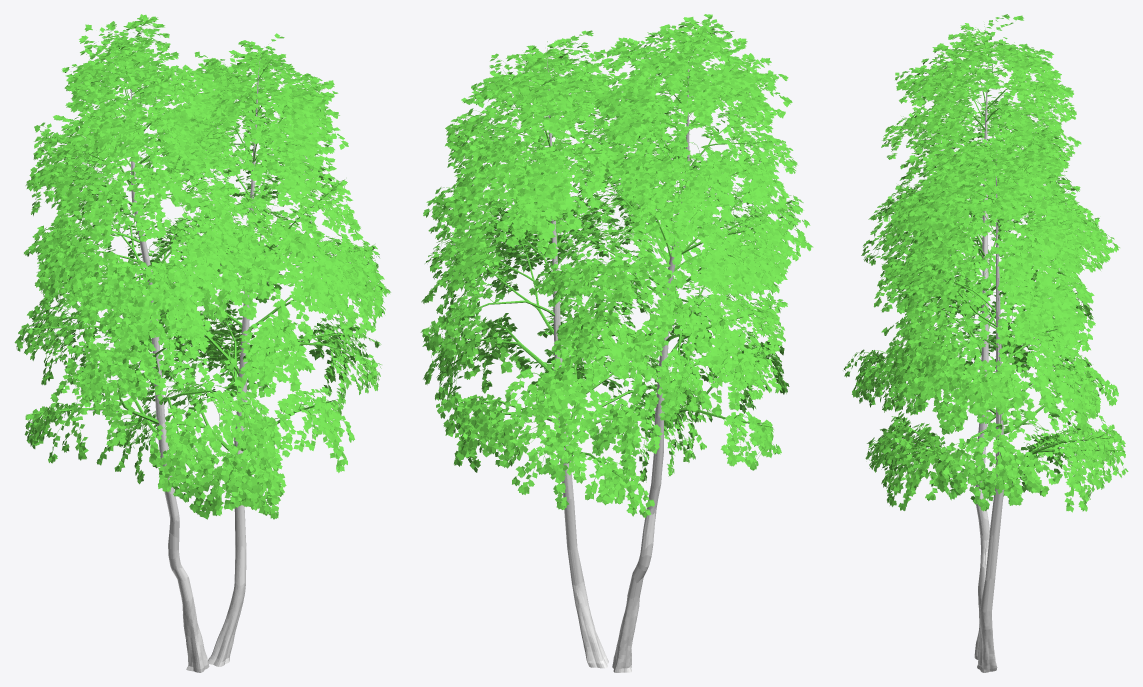
3 renders of one model, left to right at view 1: azimuth 30°, elevation 25°; view 2: azimuth 150°, elevation 25°; view 3: azimuth 270°, elevation 25°, orthographic. The views are drawn at different scales.
Visible parts, largest first — view 1: Birch004_Autumn; view 2: Birch004_Autumn; view 3: Birch004_Autumn.
Part boxes in pixels (x1,y1,x2,y2): Birch004_Autumn: (14, 14, 390, 672); Birch004_Autumn: (420, 14, 813, 672); Birch004_Autumn: (844, 14, 1128, 672).
Bounding box in the file's own units: 13.42 × 24.05 × 10.35.
